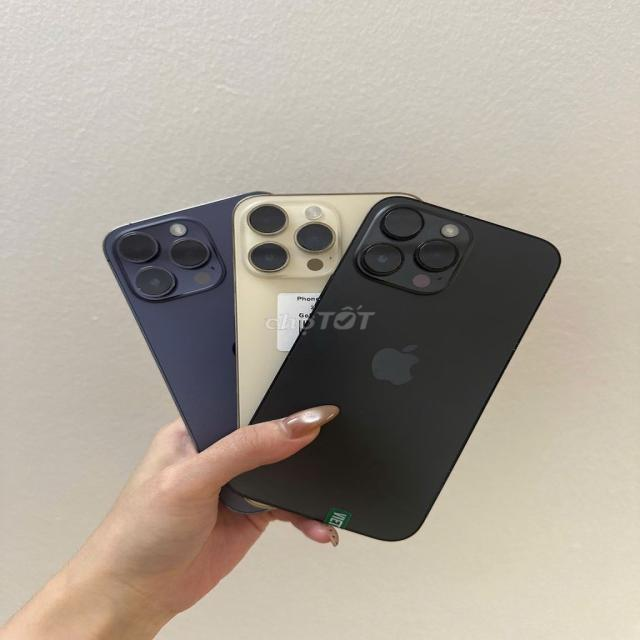gen_14: (239, 204, 560, 536)
